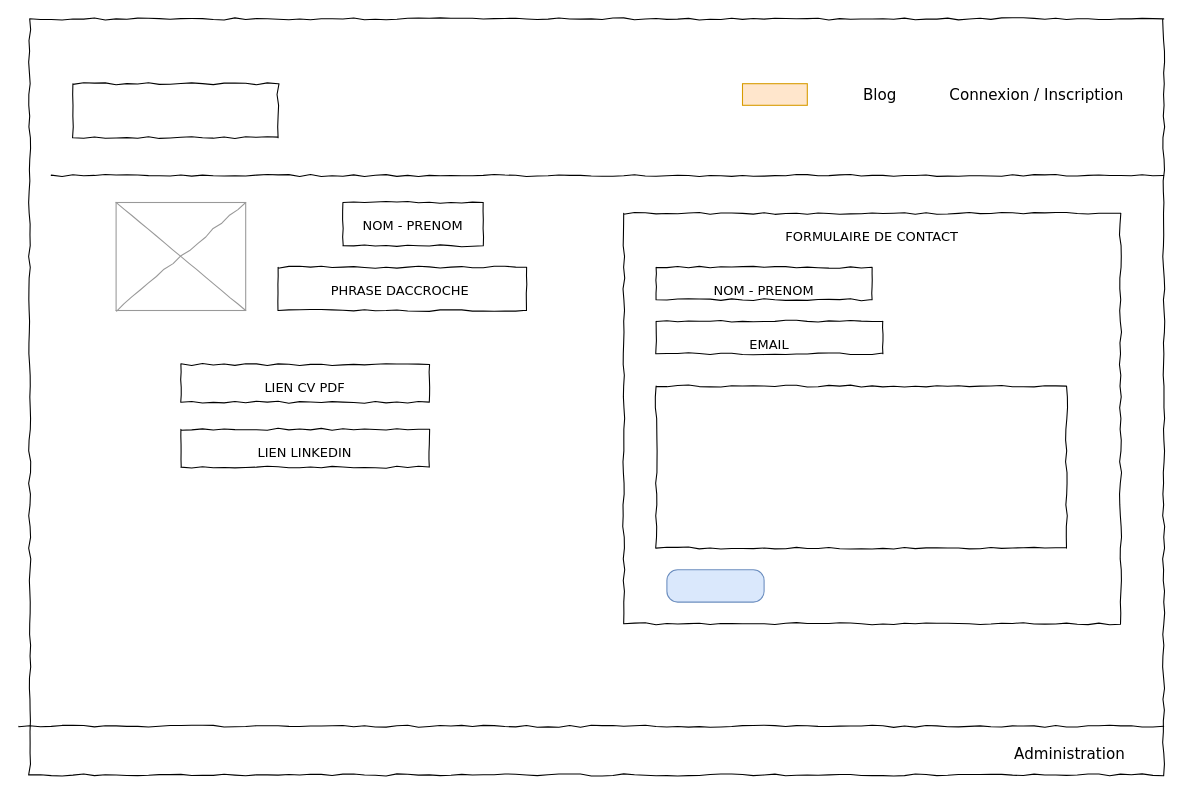
The diagram is 1183 pixels wide and 794 high, and some of its shapes have lost their labels. Here are the shapes that lost their labels. From the top down, the box of each, then its label:
(72, 83, 278, 138): LOGO
(741, 83, 807, 105): Accueil
(655, 385, 1066, 548): MESSAGE
(666, 569, 764, 602): ENVOYER
